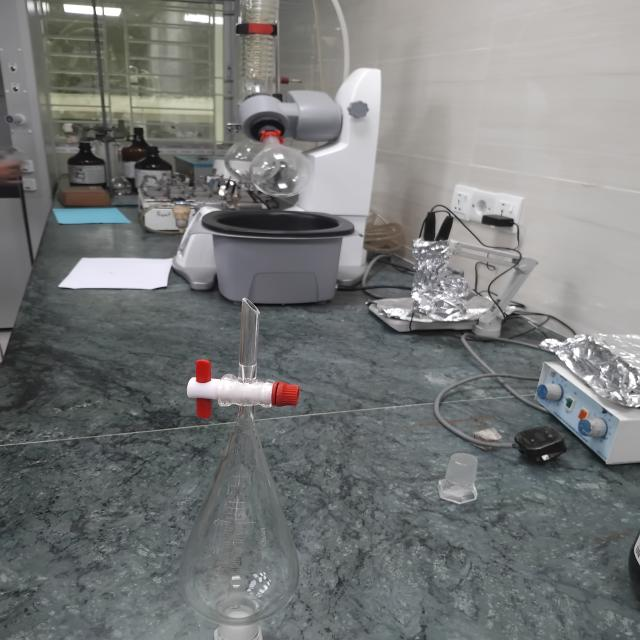Separating_Funnel: (134, 253, 368, 640)
